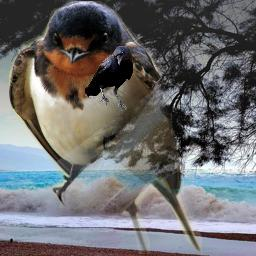Crow: (85, 46, 133, 112)
Swallow: (9, 1, 202, 254)
